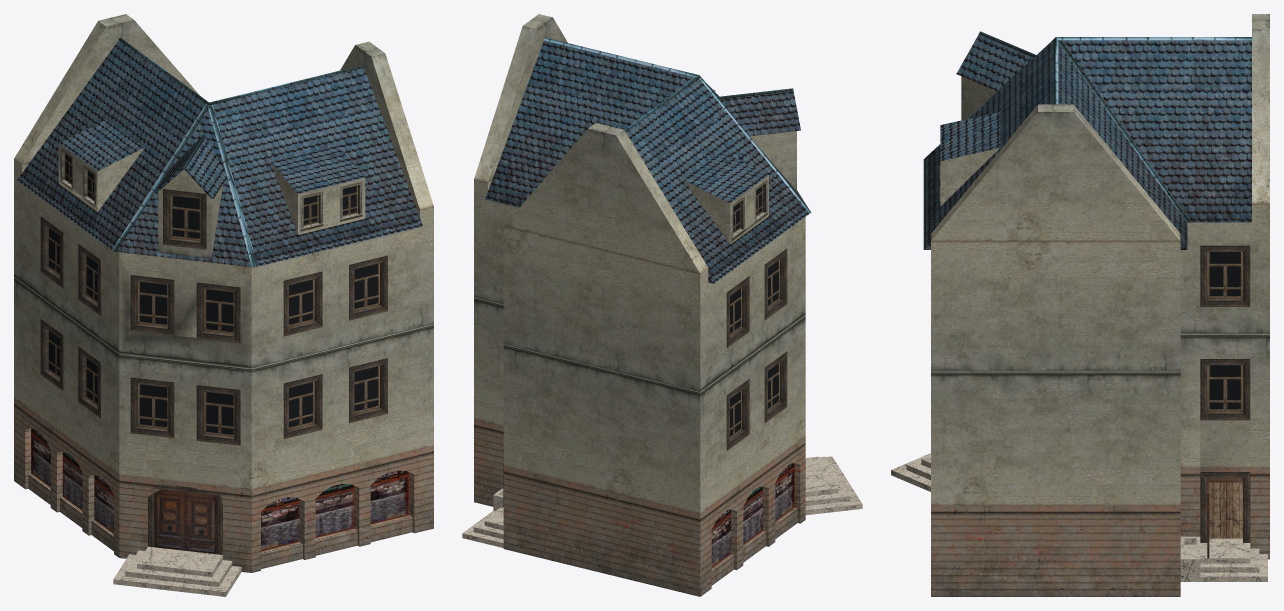
Rendered from town_eu_building_2fa1.fbx.
The picture shows the model from 3 angles, left to right: view 1: azimuth 30°, elevation 25°; view 2: azimuth 150°, elevation 25°; view 3: azimuth 270°, elevation 25°; orthographic projection. The views are drawn at different scales.
Visible parts, largest first — view 1: Building, Option2, Option 1, Door.9, Door.10; view 2: Building, Option2, Option 1; view 3: Building, Option2, Option 1.
Part boxes in pixels (bbox=[...]): Building: bbox=[14, 14, 433, 470]; Option2: bbox=[14, 378, 433, 572]; Option 1: bbox=[25, 429, 414, 596]; Door.9: bbox=[185, 492, 216, 554]; Door.10: bbox=[154, 489, 185, 550]; Building: bbox=[462, 14, 811, 576]; Option2: bbox=[616, 417, 805, 596]; Option 1: bbox=[711, 456, 862, 585]; Building: bbox=[923, 14, 1269, 596]; Option2: bbox=[931, 478, 1242, 596]; Option 1: bbox=[891, 453, 930, 491].
Size of the model in its own units: 10.62 by 15 by 10.62.
21 materials, 20 textured.
